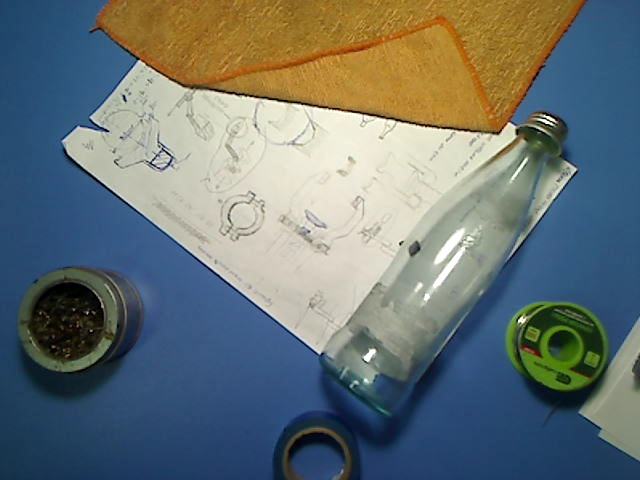bottle: (319, 110, 571, 418)
